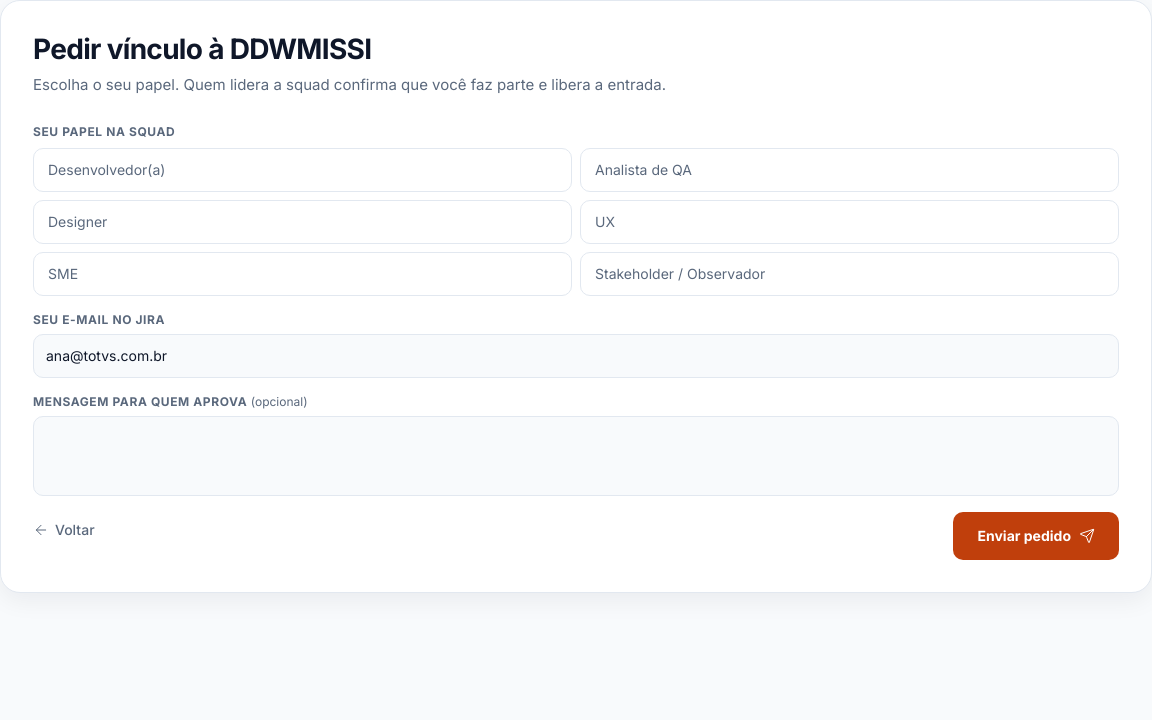
Test: RequestLinkStep: pessoa que não aparece na lista › exige escolher o papel antes de enviar
What coordinates should you click on to do the following:
click the button "Enviar pedido"
I would click on:
 (1036, 536)
Its box is top-left (954, 512), bottom-right (1119, 560).
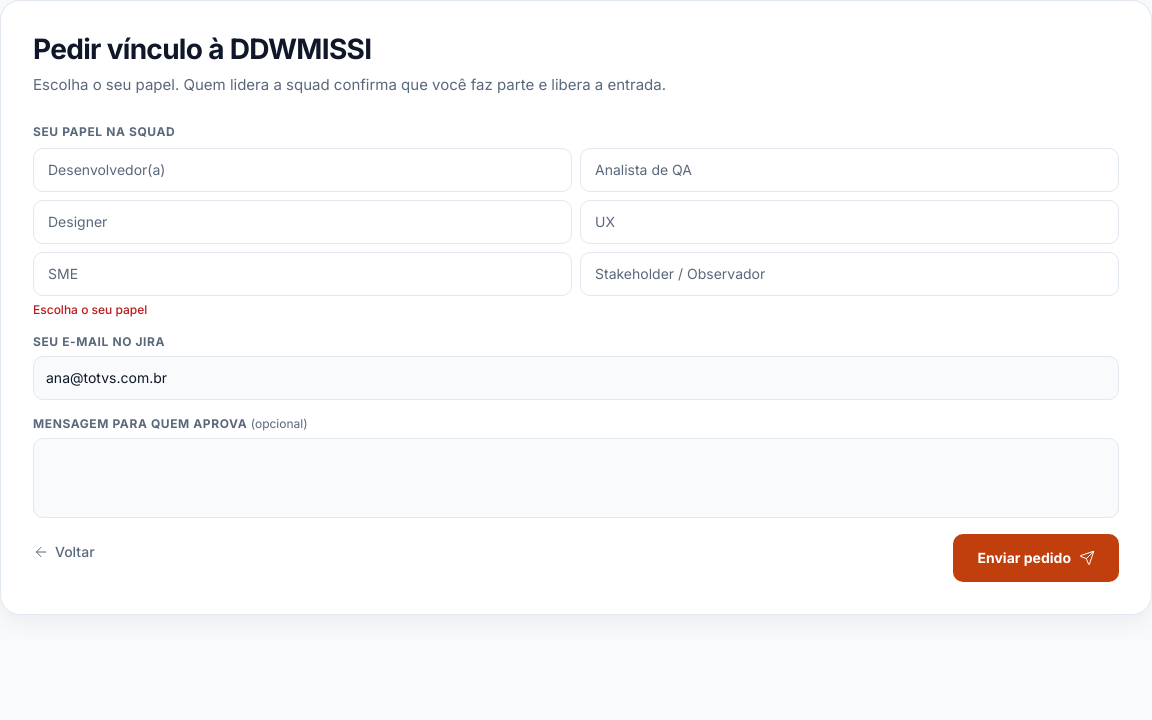
Expected: the message reads "Escolha o seu papel", top-left (33, 302), bottom-right (147, 317)
